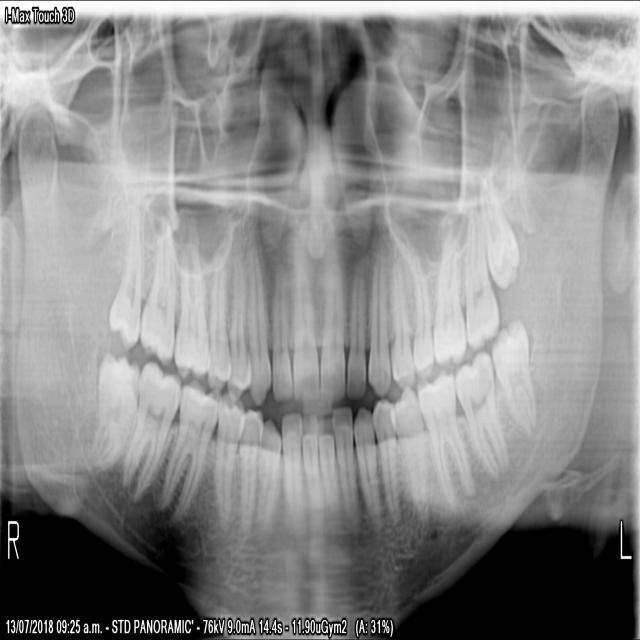LCD: (351, 407, 384, 524)
LCU: (369, 237, 388, 402)
LID: (330, 404, 365, 533), (317, 413, 341, 524)
LIU: (321, 233, 345, 418), (346, 240, 368, 401)
LMD: (418, 369, 478, 522), (452, 349, 512, 488), (487, 313, 541, 443)
LMU: (462, 202, 501, 349), (476, 179, 521, 296), (434, 213, 467, 371)
LPMD: (396, 390, 444, 518), (370, 396, 405, 524)
LPMU: (410, 237, 437, 383), (390, 233, 414, 388)
RCD: (253, 415, 282, 544)
RCU: (246, 218, 273, 399)
RID: (280, 408, 305, 530), (300, 416, 322, 512)
RIU: (291, 241, 319, 405), (272, 257, 293, 401)
RMD: (153, 385, 222, 529), (120, 360, 186, 505), (88, 351, 143, 482)
RMU: (171, 219, 212, 383), (104, 212, 149, 351), (140, 222, 177, 368)
RPMD: (214, 396, 249, 540), (238, 407, 267, 544)
RPMU: (227, 222, 251, 394), (208, 224, 231, 391)
